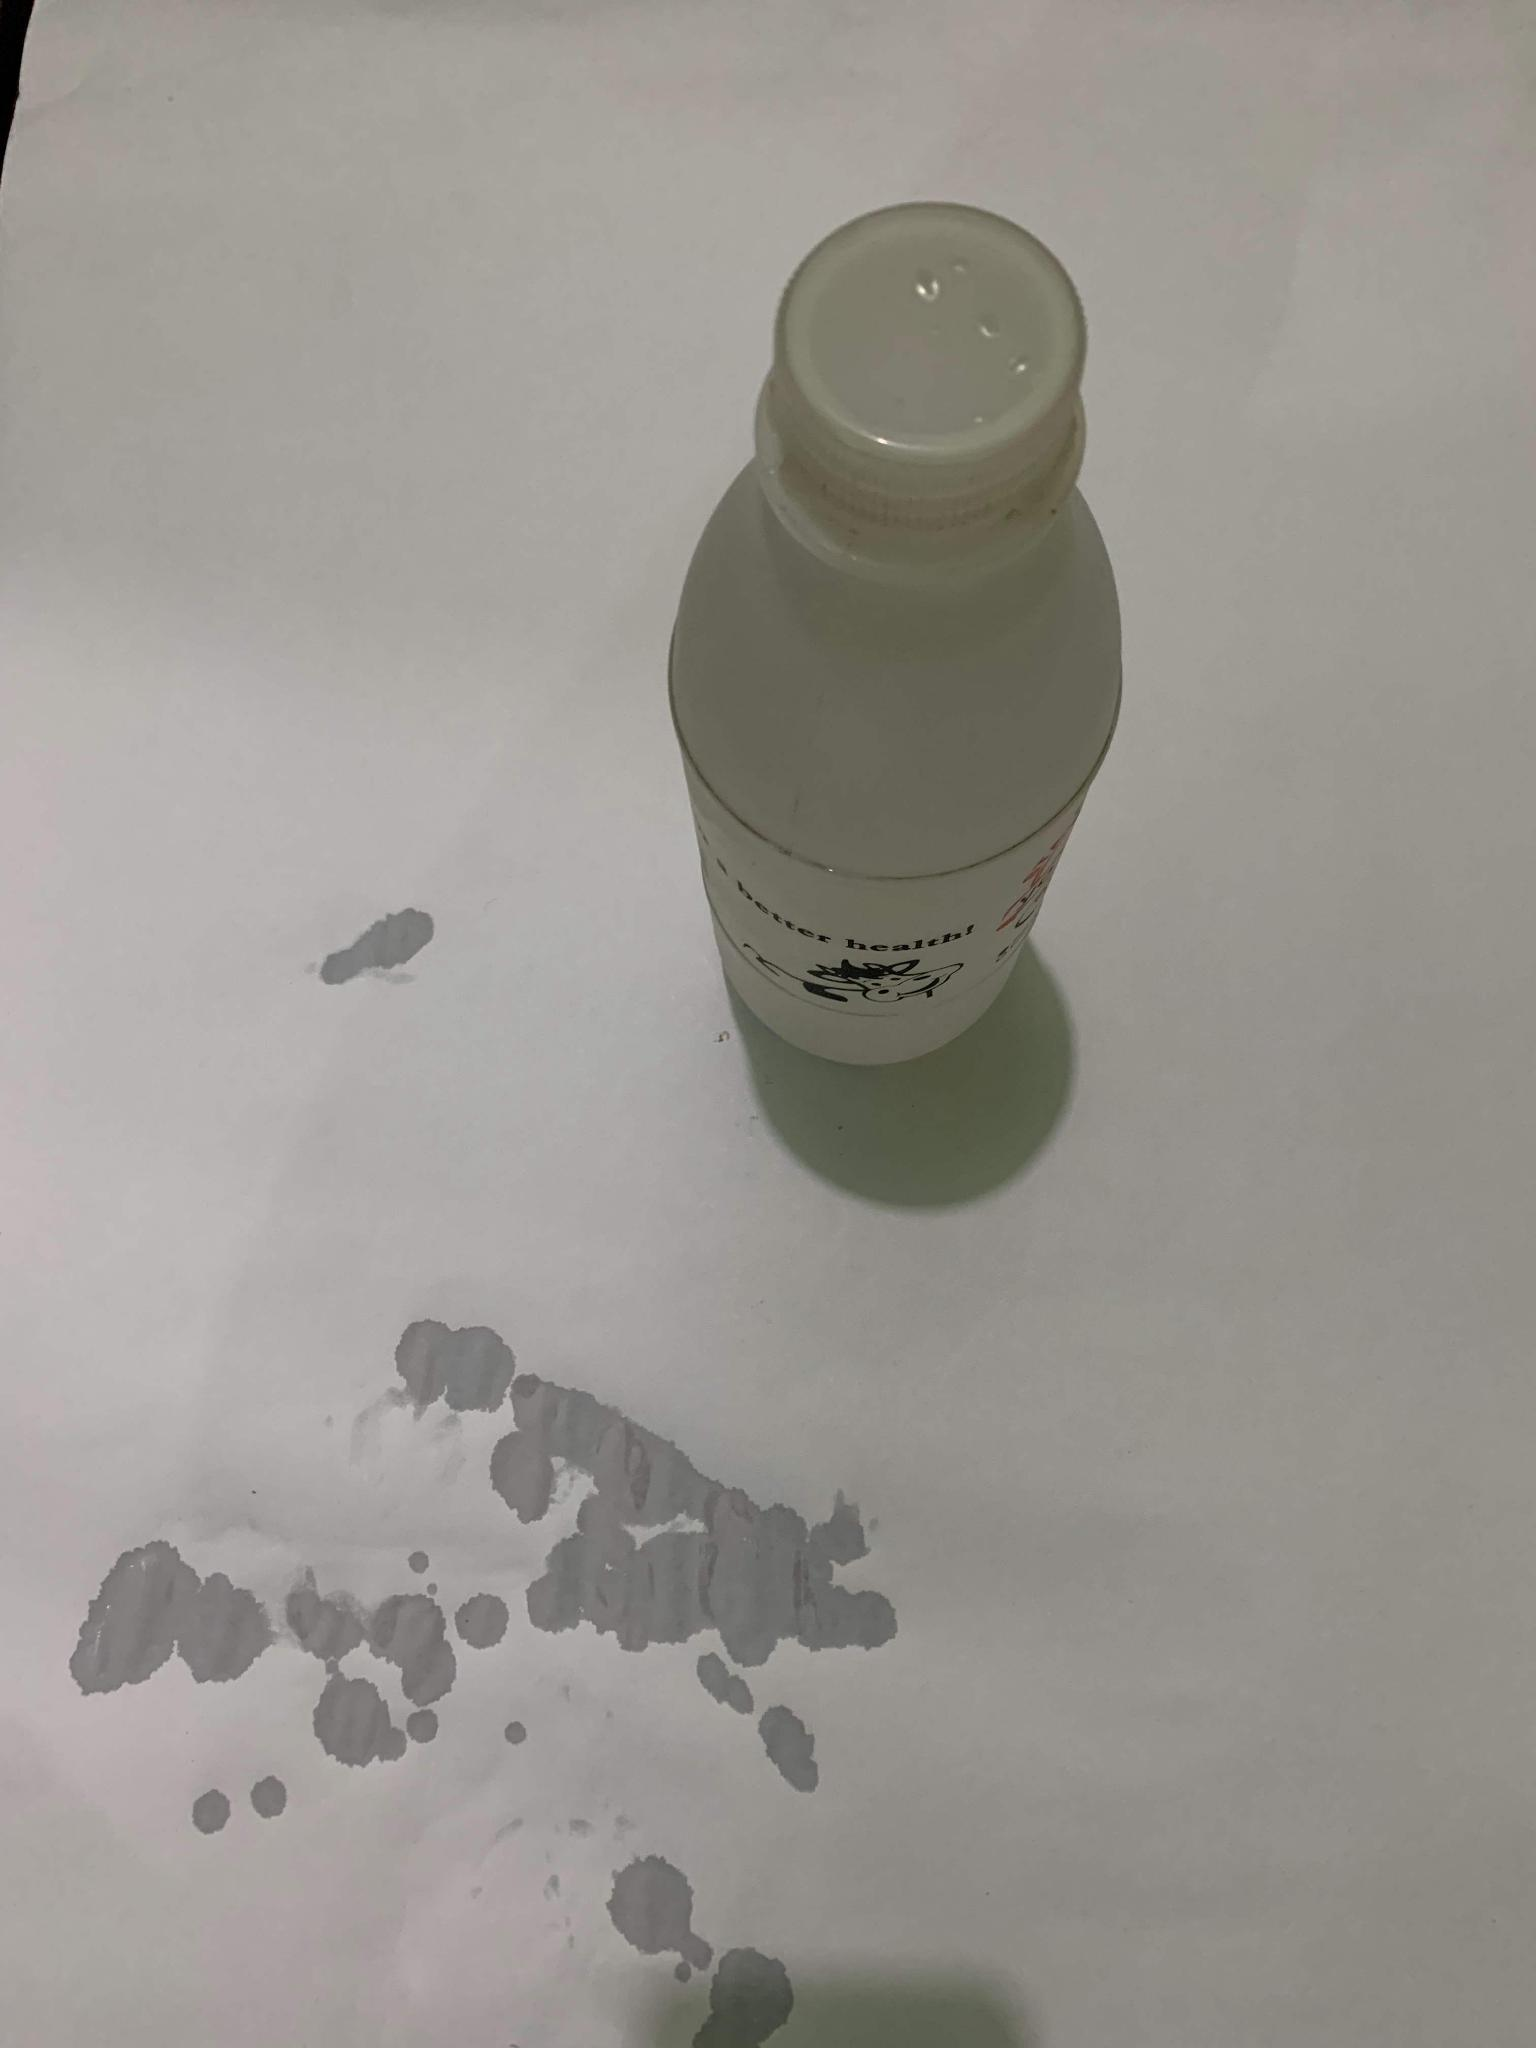bottle: (651, 176, 1166, 1106)
